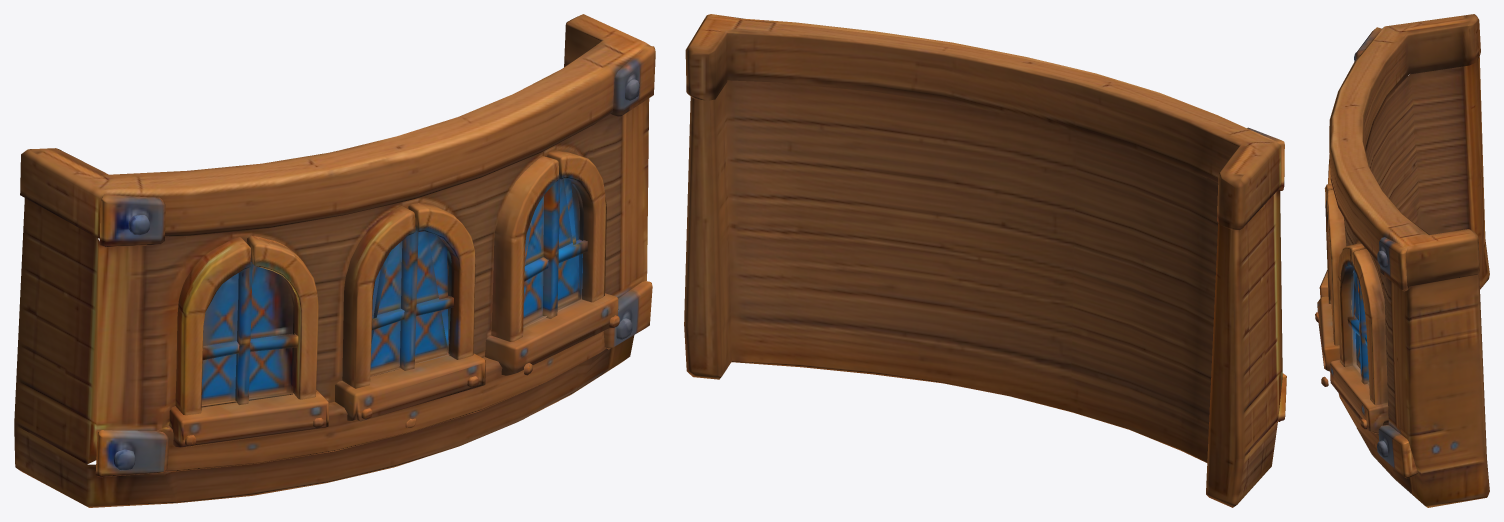
File: cabin_transom.glb
3 renders of one model, left to right at view 1: azimuth 30°, elevation 25°; view 2: azimuth 150°, elevation 25°; view 3: azimuth 270°, elevation 25°, orthographic. The views are drawn at different scales.
Parts seen in each view (by area): view 1: transom; view 2: transom; view 3: transom.
Boxes of the visible parts, x1,y1,x2,y2 form: transom: [14, 14, 655, 507]; transom: [684, 14, 1286, 507]; transom: [1315, 14, 1489, 507].
Size of the model in its own units: 4.46 by 2.42 by 1.4.
1 material, 1 textured.
